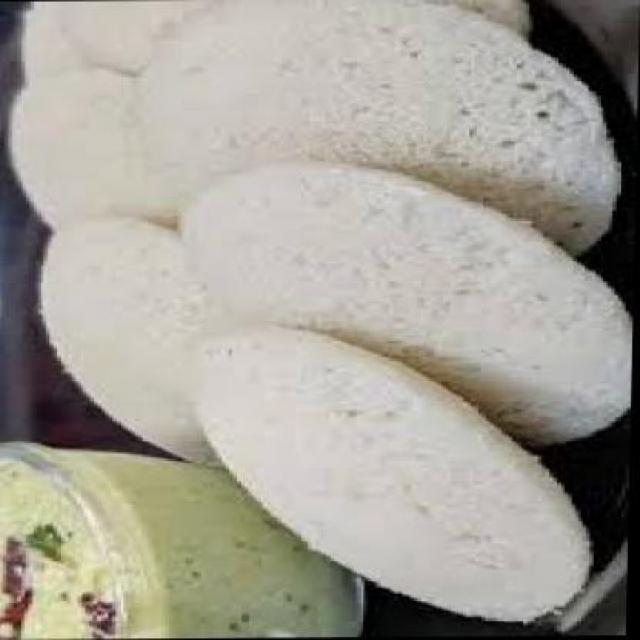idli: (175, 160, 637, 448), (129, 0, 623, 257), (192, 322, 598, 623), (39, 212, 232, 466), (34, 0, 531, 74), (6, 68, 205, 230)
